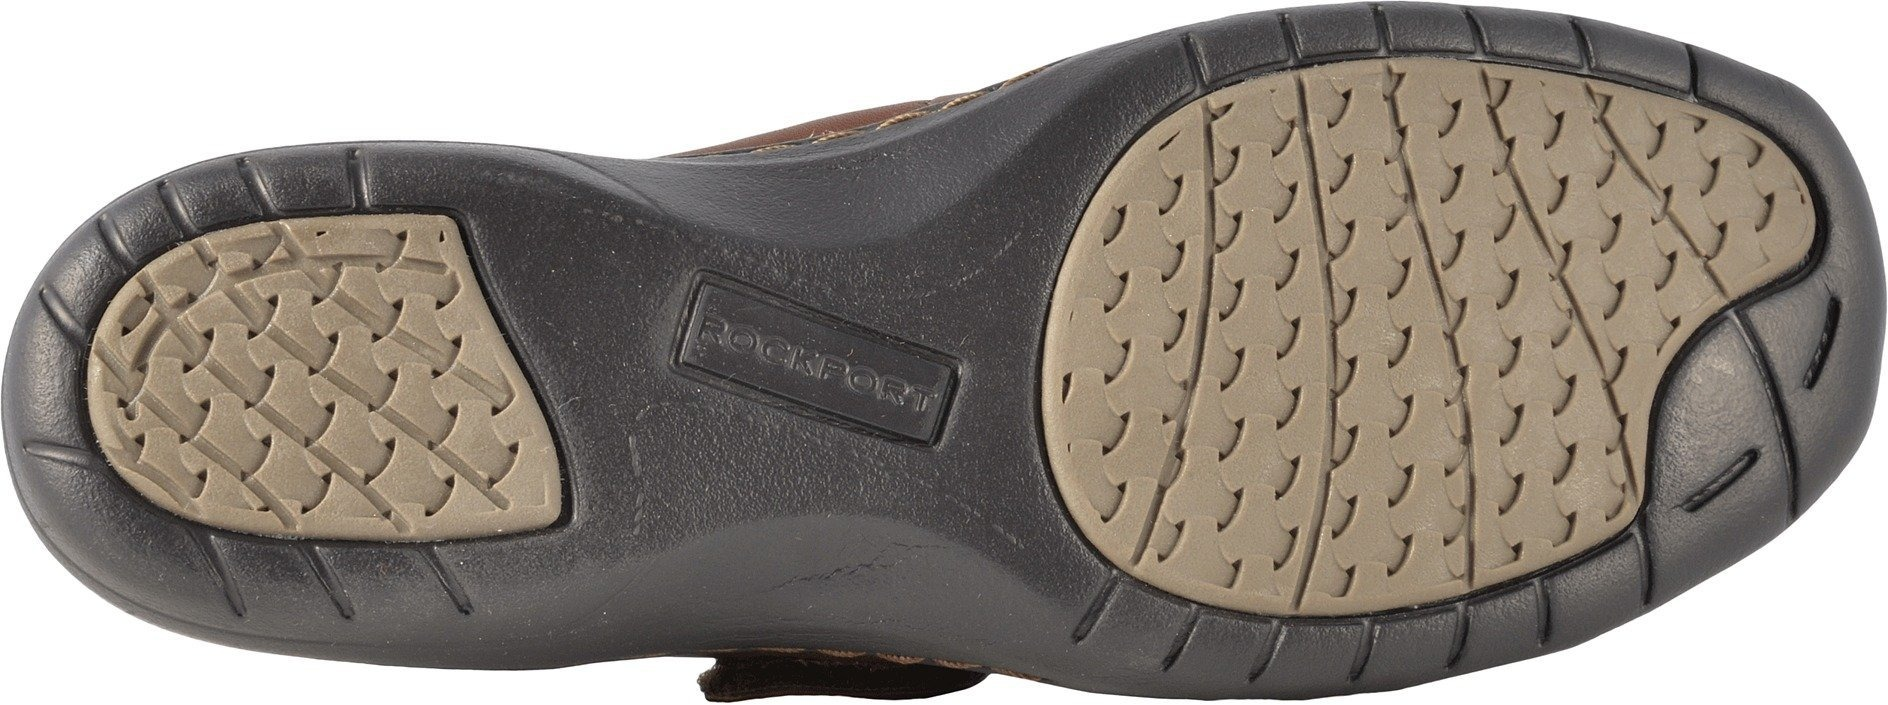exclude: (660, 642, 1021, 700)
other: (523, 206, 675, 365), (592, 402, 741, 538)
text: (747, 327, 854, 423), (859, 352, 942, 436)
